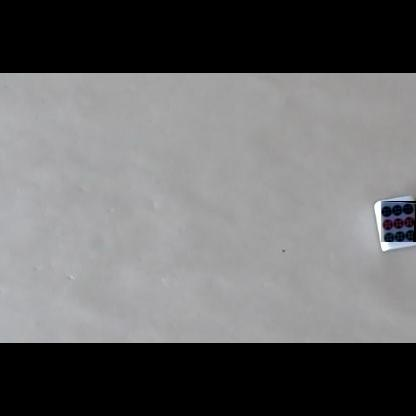9p: (381, 201, 416, 242)
